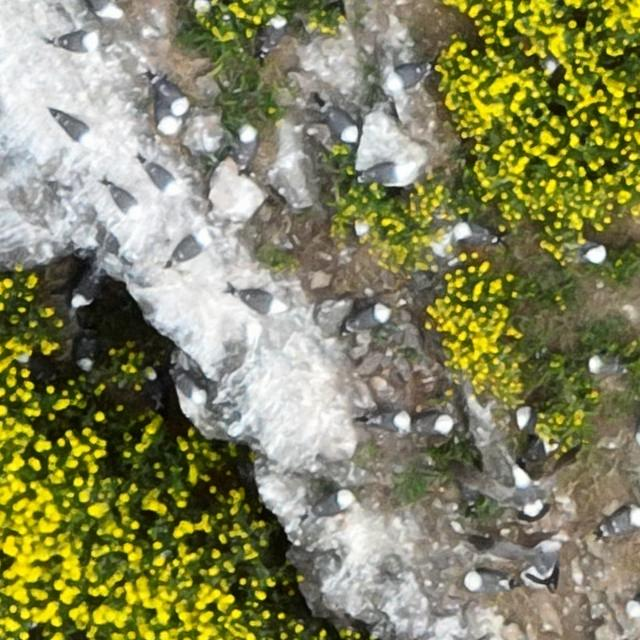F: (501, 539, 565, 590), (504, 465, 552, 522)
umineko: (147, 74, 188, 114), (168, 228, 208, 268), (174, 370, 209, 408), (363, 162, 416, 186), (153, 98, 181, 139), (510, 401, 544, 433), (326, 108, 357, 142), (311, 493, 353, 517), (366, 411, 410, 432), (349, 305, 388, 328), (56, 116, 90, 142), (108, 187, 140, 214), (236, 290, 279, 310), (606, 508, 639, 534), (261, 16, 285, 51), (75, 333, 95, 373), (74, 278, 100, 308), (146, 163, 176, 189), (465, 574, 505, 593), (453, 225, 493, 244), (390, 66, 424, 86), (238, 127, 256, 164), (416, 416, 449, 436), (55, 36, 91, 52), (91, 2, 126, 18), (587, 358, 617, 376), (581, 242, 606, 263)
